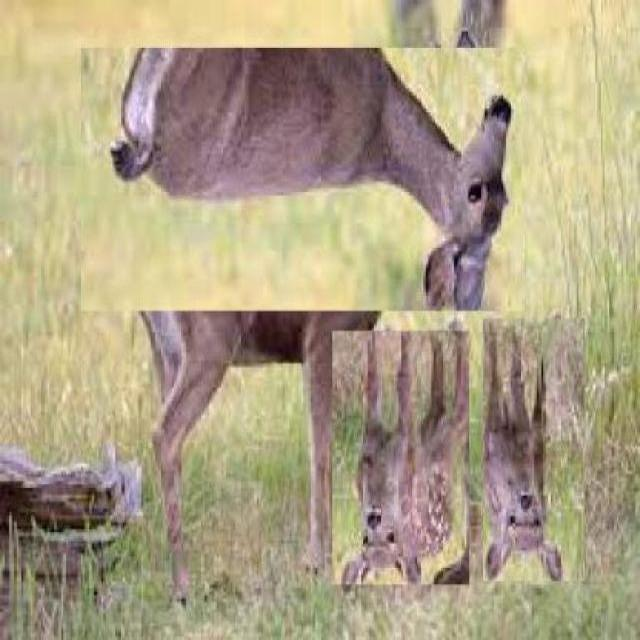deer: (80, 49, 523, 314), (332, 330, 470, 586), (483, 319, 586, 581)
